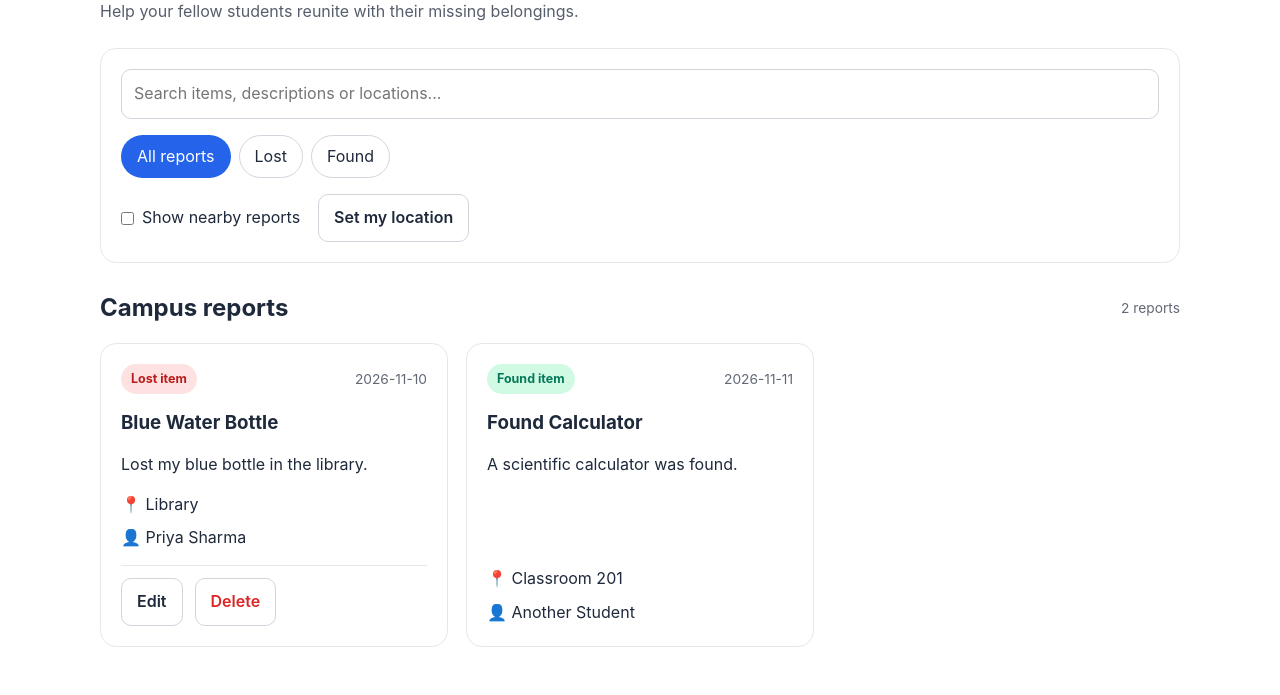
LostFound Page › deletes a report after confirmation
(page scrolled)
Click the button "Delete".
click(235, 602)  # box 194,578 -> 276,626
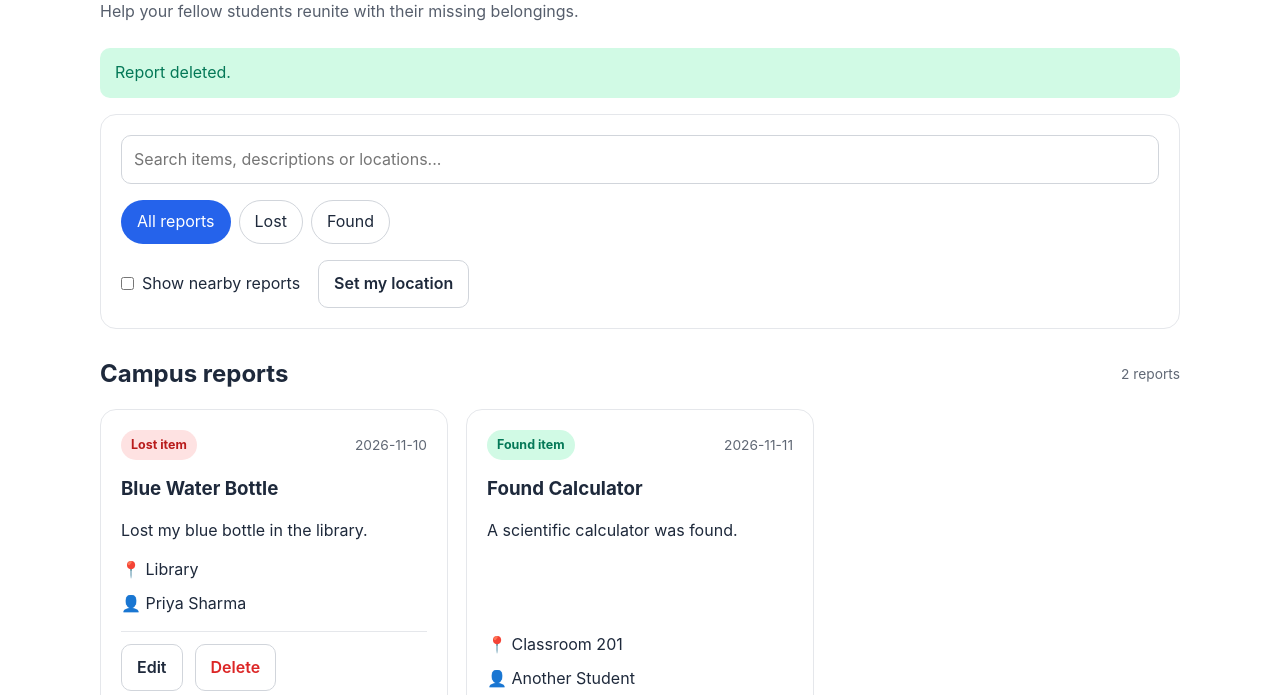
Result: the message reads "Report deleted." at 115,62 -> 231,82
